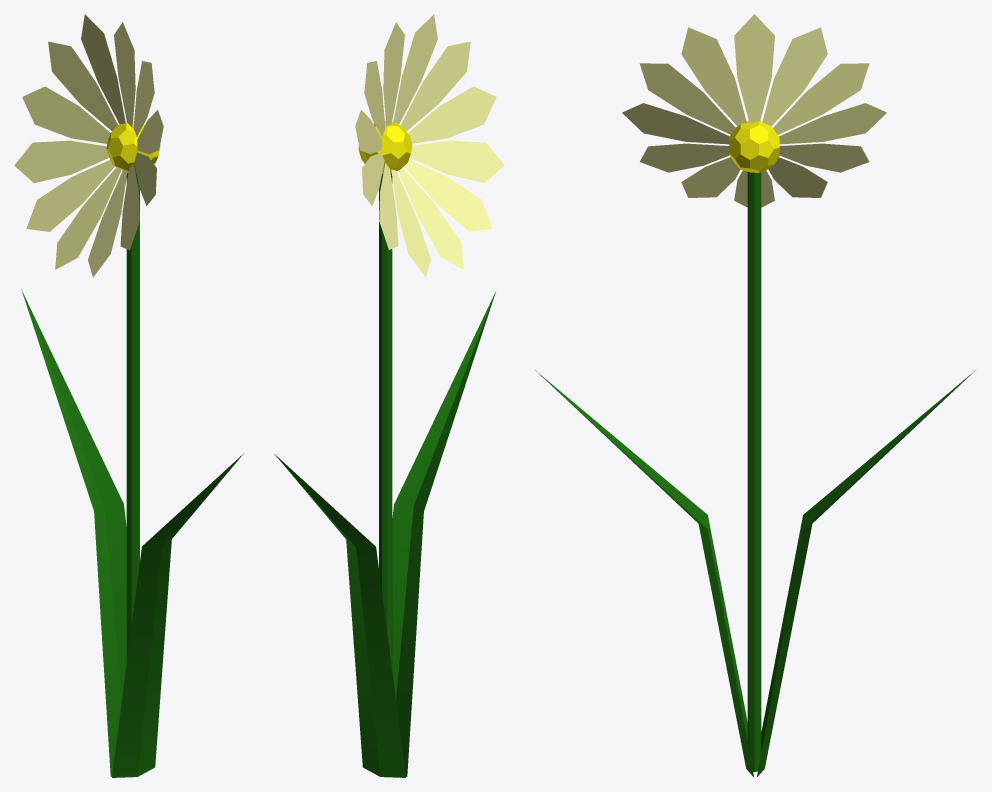
The model's file is flower4.fbx.
The picture shows the model from 3 angles, left to right: view 1: azimuth 30°, elevation 25°; view 2: azimuth 150°, elevation 25°; view 3: azimuth 270°, elevation 25°; orthographic projection.
Parts seen in each view (by area): view 1: Cloner, Polygon, Polygon_1, Cylinder, Platonic; view 2: Cloner, Polygon, Polygon_1, Cylinder, Platonic; view 3: Cloner, Cylinder, Polygon, Polygon_1, Platonic.
Part boxes in pixels (x1,y1,x2,y2): Cloner: [14, 14, 163, 277]; Polygon: [21, 290, 126, 776]; Polygon_1: [112, 453, 243, 777]; Cylinder: [126, 173, 139, 662]; Platonic: [106, 121, 160, 173]; Cloner: [355, 14, 504, 277]; Polygon: [274, 454, 405, 777]; Polygon_1: [392, 291, 495, 776]; Cylinder: [379, 173, 392, 670]; Platonic: [358, 120, 412, 173]; Cloner: [622, 14, 886, 207]; Cylinder: [747, 172, 761, 771]; Polygon: [757, 370, 975, 776]; Polygon_1: [535, 370, 753, 776]; Platonic: [729, 120, 779, 172].
Size of the model in its own units: 8.47 by 60.27 by 32.36.
